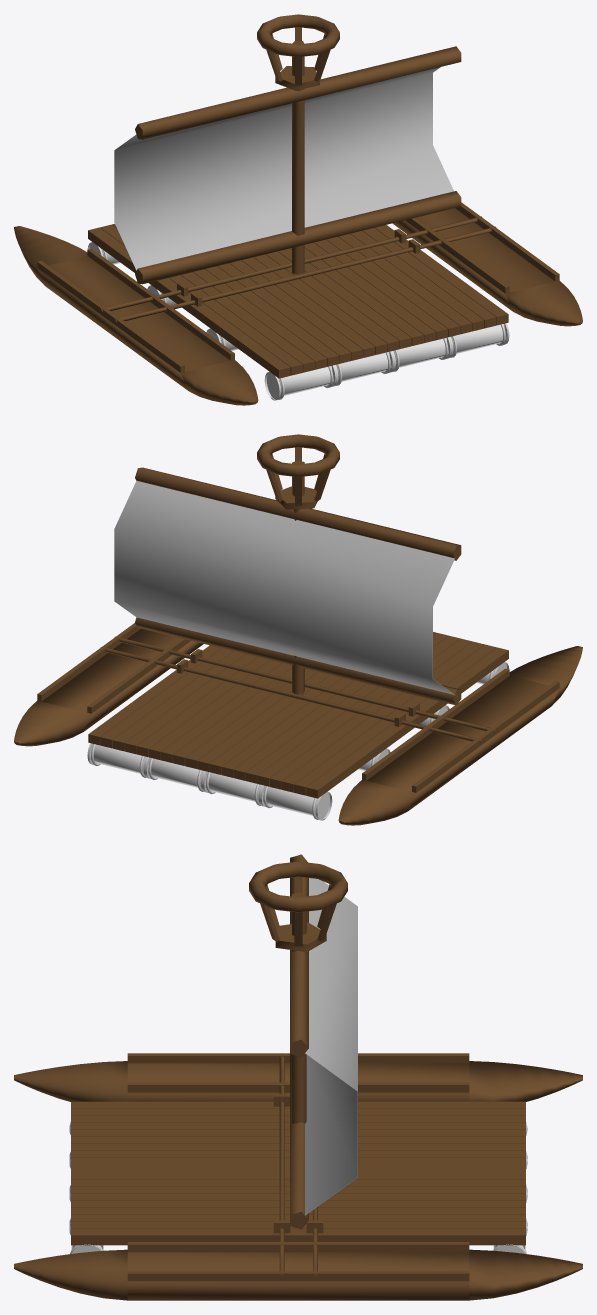
The model's file is Raft.glb.
The picture shows the model from 3 angles, top to bottom: view 1: azimuth 30°, elevation 25°; view 2: azimuth 150°, elevation 25°; view 3: azimuth 270°, elevation 25°; orthographic projection. The views are drawn at different scales.
Parts seen in each view (by area): view 1: Root; view 2: Root; view 3: Root.
Part boxes in pixels (x1,y1,x2,y2): Root: (14, 14, 582, 405); Root: (14, 434, 582, 825); Root: (14, 854, 582, 1300).
Size of the model in its own units: 8.82 by 6.15 by 9.58.
